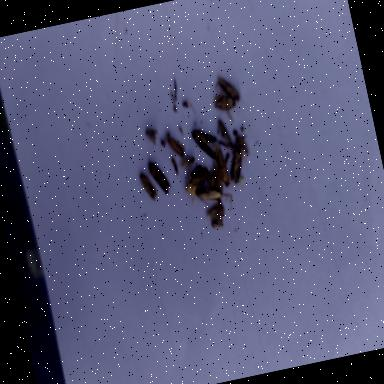pbw: (190, 125, 220, 163), (148, 158, 172, 197), (225, 150, 247, 186), (216, 75, 240, 106), (214, 147, 231, 189), (138, 170, 158, 202), (216, 118, 234, 149), (213, 92, 236, 114), (167, 134, 185, 160), (196, 186, 222, 202)
